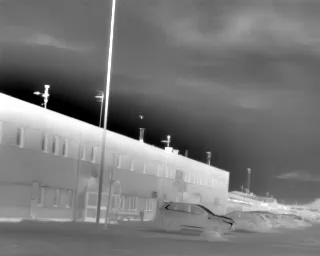HELICOPTER: (137, 112, 146, 121)
